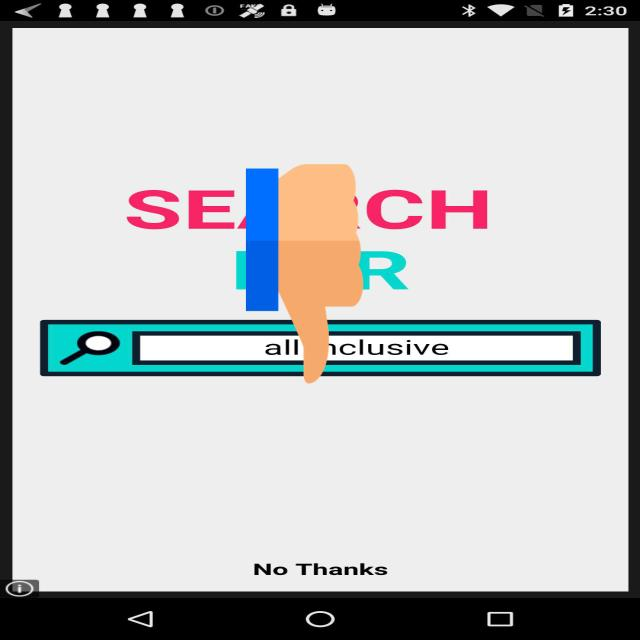obstruction: (246, 159, 363, 389)
